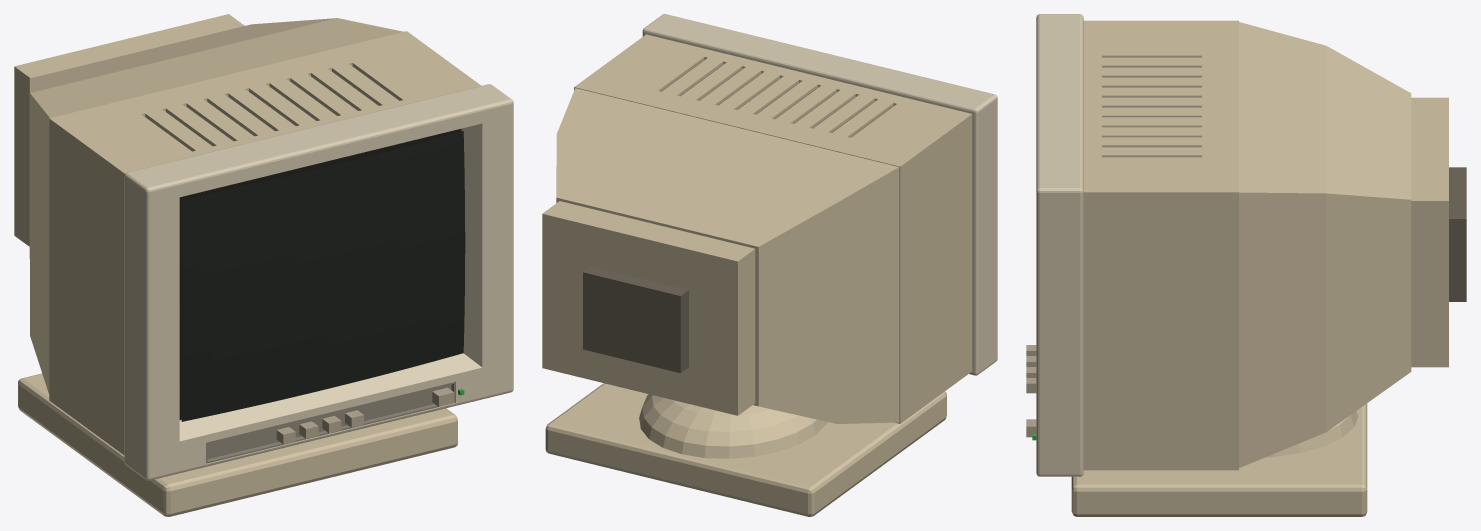
Rendered from crt-b.glb.
3 views of the same model, side by side, from view 1: azimuth 30°, elevation 25°; view 2: azimuth 150°, elevation 25°; view 3: azimuth 270°, elevation 25° (orthographic). The views are drawn at different scales.
Visible parts, largest first — view 1: glass, bezel, shell, tube, plinth, tail, ctl-liner, glass-back, vent-floor; view 2: tube, shell, tail, plinth, bezel, neck, swivel-dome, vent-floor; view 3: shell, tube, bezel, plinth, tail, neck, swivel-dome.
Boxes of the visible parts, box(x1,y1,x2,y2) form: glass: box(181, 131, 465, 421); bezel: box(124, 84, 513, 480); shell: box(49, 31, 481, 454); tube: box(29, 18, 403, 394); plinth: box(18, 373, 457, 516); tail: box(14, 14, 244, 246); ctl-liner: box(206, 382, 455, 463); glass-back: box(179, 129, 461, 419); vent-floor: box(146, 67, 399, 151); tube: box(556, 88, 899, 423); shell: box(574, 34, 972, 423); tail: box(542, 201, 755, 415); plinth: box(545, 383, 946, 516); bezel: box(642, 14, 997, 375); neck: box(583, 266, 688, 373); swivel-dome: box(639, 394, 827, 458); vent-floor: box(661, 60, 892, 137); shell: box(1083, 20, 1238, 470); tube: box(1239, 22, 1411, 467); bezel: box(1036, 14, 1083, 476); plinth: box(1071, 403, 1367, 516); tail: box(1411, 97, 1448, 367); neck: box(1449, 167, 1466, 301); swivel-dome: box(1265, 411, 1358, 457).
Bounding box in the file's own units: 0.355 × 0.3375 × 0.3735.
